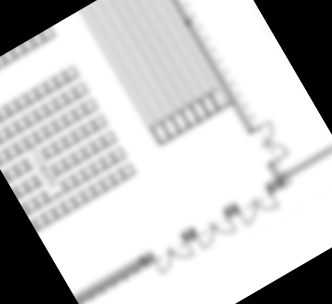double door: (248, 117, 293, 169), (191, 210, 239, 252), (235, 185, 281, 228), (149, 236, 196, 276)
wall: (150, 0, 257, 137), (73, 250, 156, 304), (264, 142, 332, 192), (265, 160, 289, 192)
